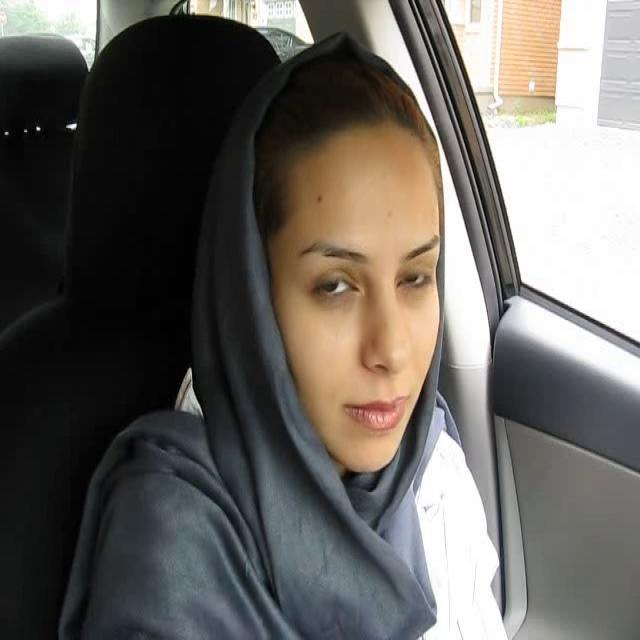close: (344, 389, 410, 434)
